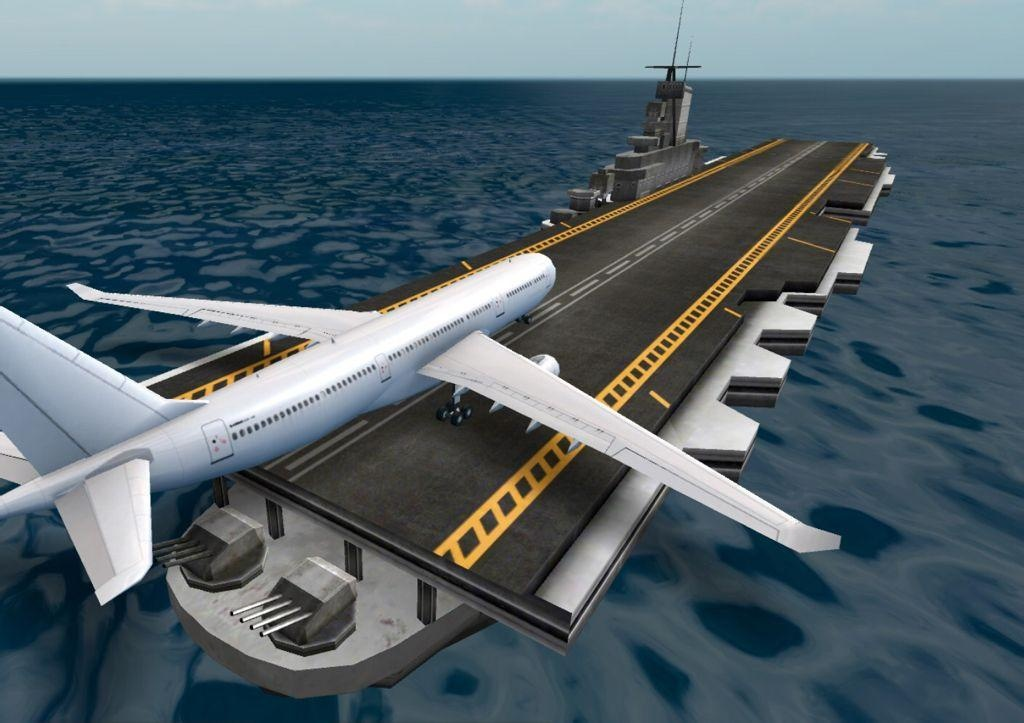airplane: (5, 244, 846, 622)
